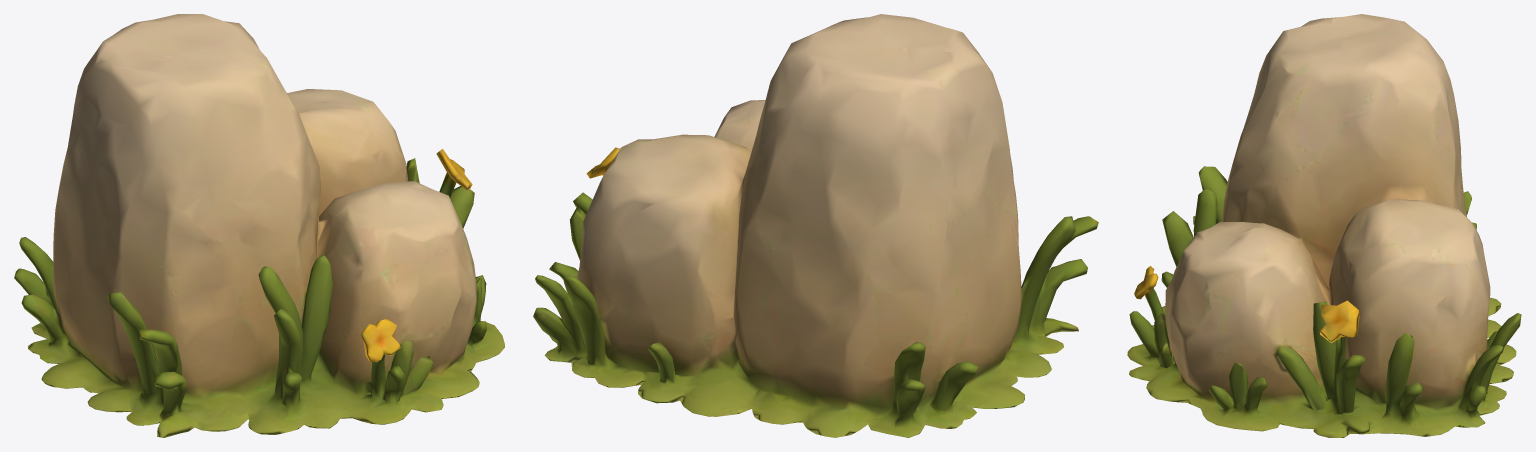
Rendered from rocks.glb.
3 views of the same model, side by side, from view 1: azimuth 30°, elevation 25°; view 2: azimuth 150°, elevation 25°; view 3: azimuth 270°, elevation 25° (orthographic). The views are drawn at different scales.
Visible parts, largest first — view 1: tripo_node_92a59867-85d6-4ccf-a7bc-7906af8f8f86; view 2: tripo_node_92a59867-85d6-4ccf-a7bc-7906af8f8f86; view 3: tripo_node_92a59867-85d6-4ccf-a7bc-7906af8f8f86.
Boxes of the visible parts, x1,y1,x2,y2 form: tripo_node_92a59867-85d6-4ccf-a7bc-7906af8f8f86: (14, 14, 504, 437); tripo_node_92a59867-85d6-4ccf-a7bc-7906af8f8f86: (533, 14, 1098, 437); tripo_node_92a59867-85d6-4ccf-a7bc-7906af8f8f86: (1127, 14, 1521, 437).
Bounding box in the file's own units: 1 × 0.6941 × 0.8883.
Materials: 1 (1 with a texture image).
